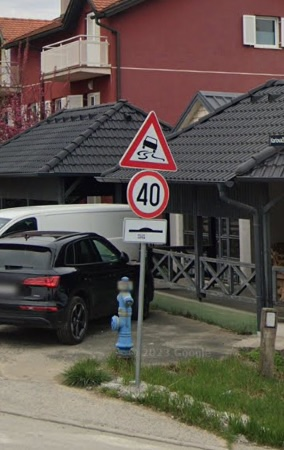Ograničenje brzine 40: (126, 170, 170, 219)
